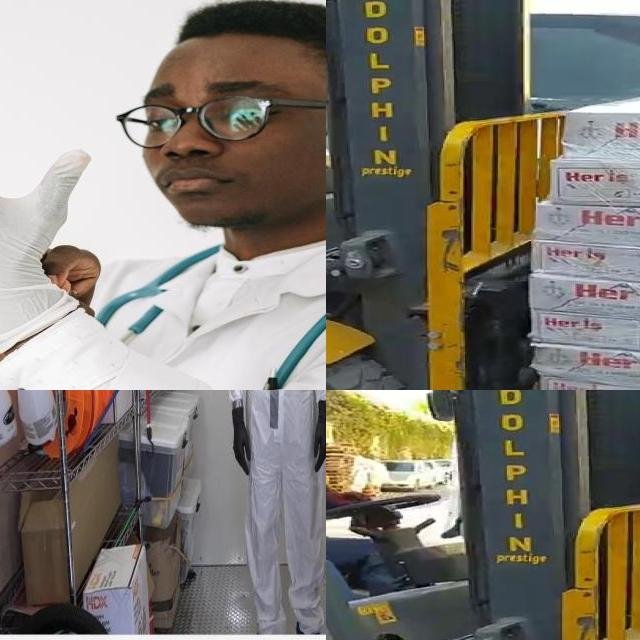GLOVE: (0, 89, 122, 350)
Glove: (231, 406, 252, 476), (313, 398, 326, 473)
